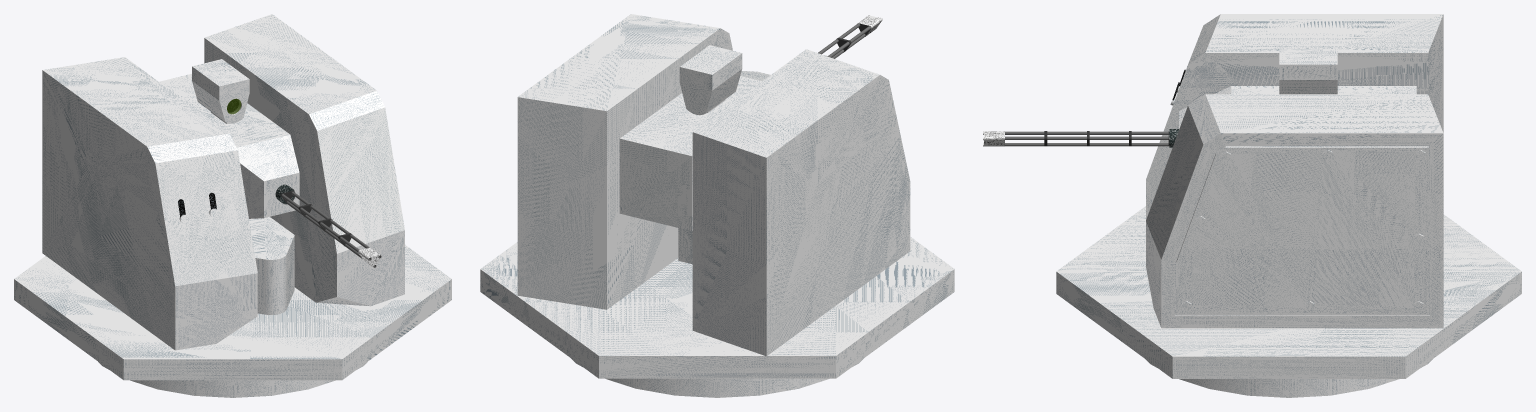
The model's file is JM61+20mm+Vulcan.dae.
3 views of the same model, side by side, from view 1: azimuth 30°, elevation 25°; view 2: azimuth 150°, elevation 25°; view 3: azimuth 270°, elevation 25° (orthographic). The views are drawn at different scales.
Parts seen in each view (by area): view 1: group_0 (×4), group_5 (×2), group_4 (×2); view 2: group_0 (×4), group_5 (×2), group_4 (×2); view 3: group_0 (×5), group_5 (×2), group_4 (×2), Gatling_20_mm (×3).
Boxes of the visible parts, <box> form: group_0 (×4): <box>42,14,404,350</box>; group_5 (×2): <box>14,245,451,397</box>; group_4 (×2): <box>159,66,299,218</box>; group_0 (×4): <box>517,14,910,356</box>; group_5 (×2): <box>480,237,954,397</box>; group_4 (×2): <box>619,53,770,230</box>; group_0 (×5): <box>1146,14,1443,328</box>; group_5 (×2): <box>1056,206,1521,397</box>; group_4 (×2): <box>1179,64,1416,129</box>; Gatling_20_mm (×3): <box>1005,131,1168,146</box>.
Bounding box in the file's own units: 103 × 138 × 76.55.
